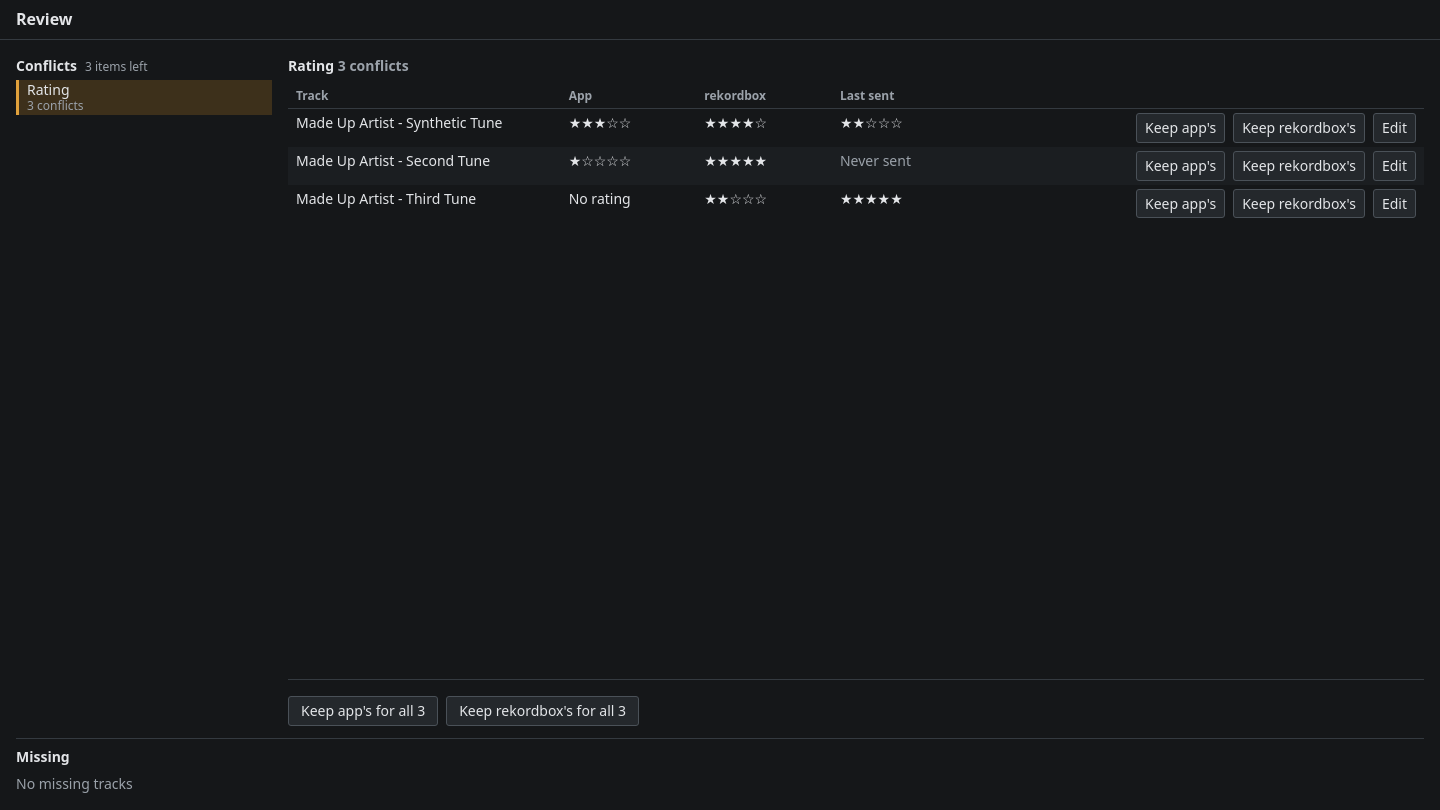
Test: resolving one conflict › keeps the app's value, and the conflict leaves the list
Expected: the row that starts with "Made Up Artist - Synthetic Tune" is shown, [288, 109, 1424, 147]
Click the button "Keep app's" in the row of "Made Up Artist - Synthetic Tune": (1181, 128) [1136, 113, 1225, 143]
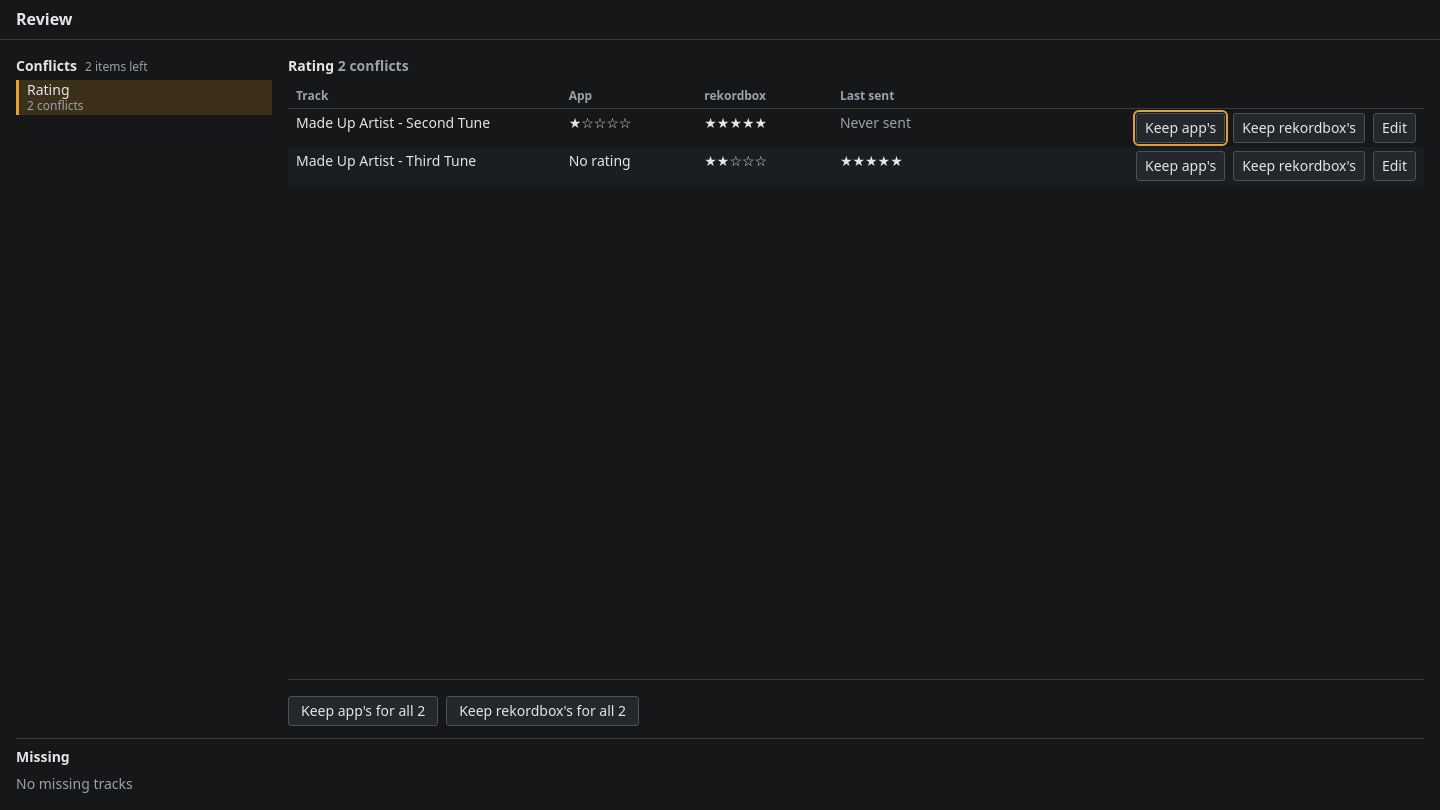
Expected: the row that starts with "Made Up Artist - Second Tune" is shown, [288, 109, 1424, 147]
Result: the text "Synthetic Tune" is gone
